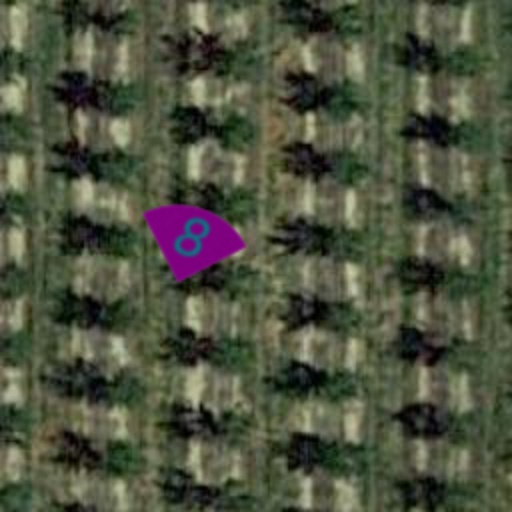quarter_circle: (126, 172, 258, 304)
